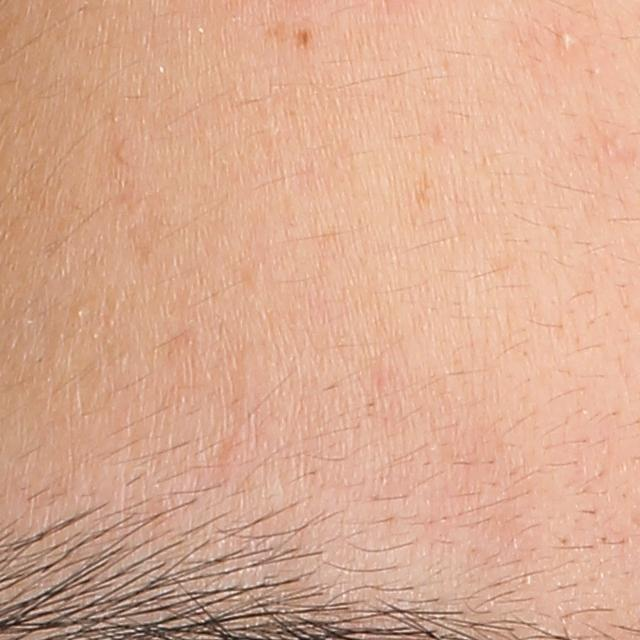comedo: (551, 27, 579, 57)
nevus: (294, 26, 312, 47)
